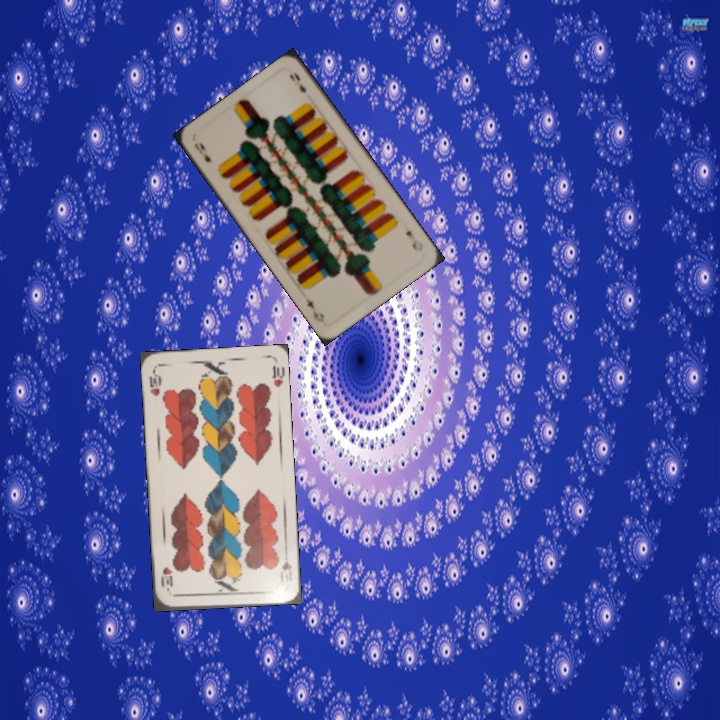E9: (402, 226, 426, 254), (190, 138, 214, 165)
H10: (145, 366, 164, 399), (277, 557, 294, 586)
